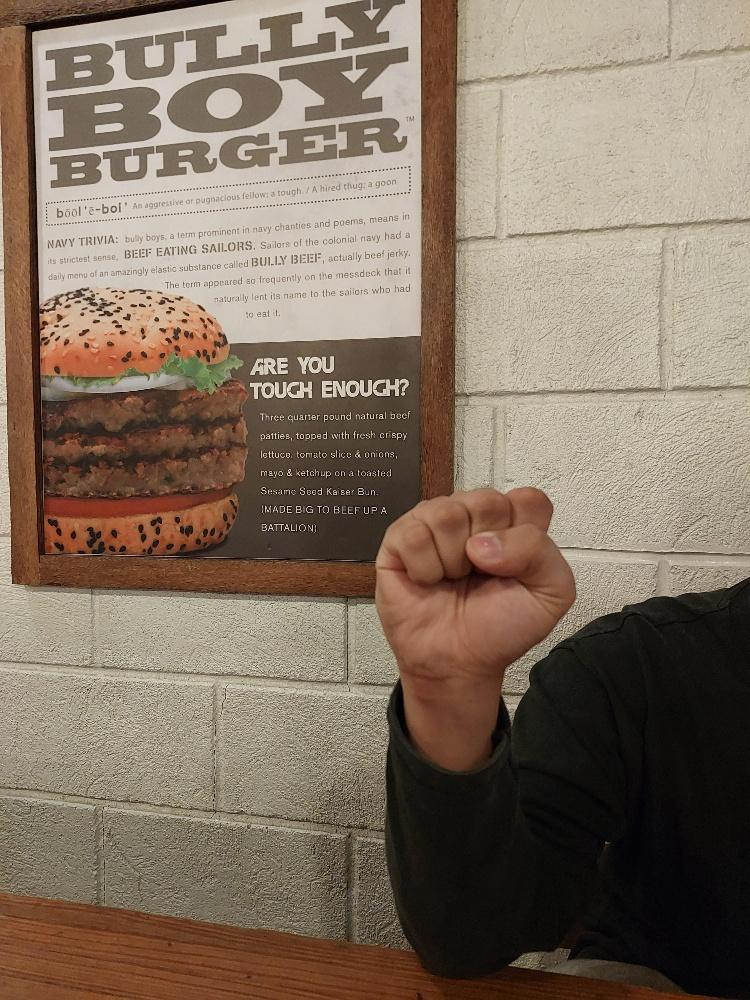s: (372, 482, 577, 683)
